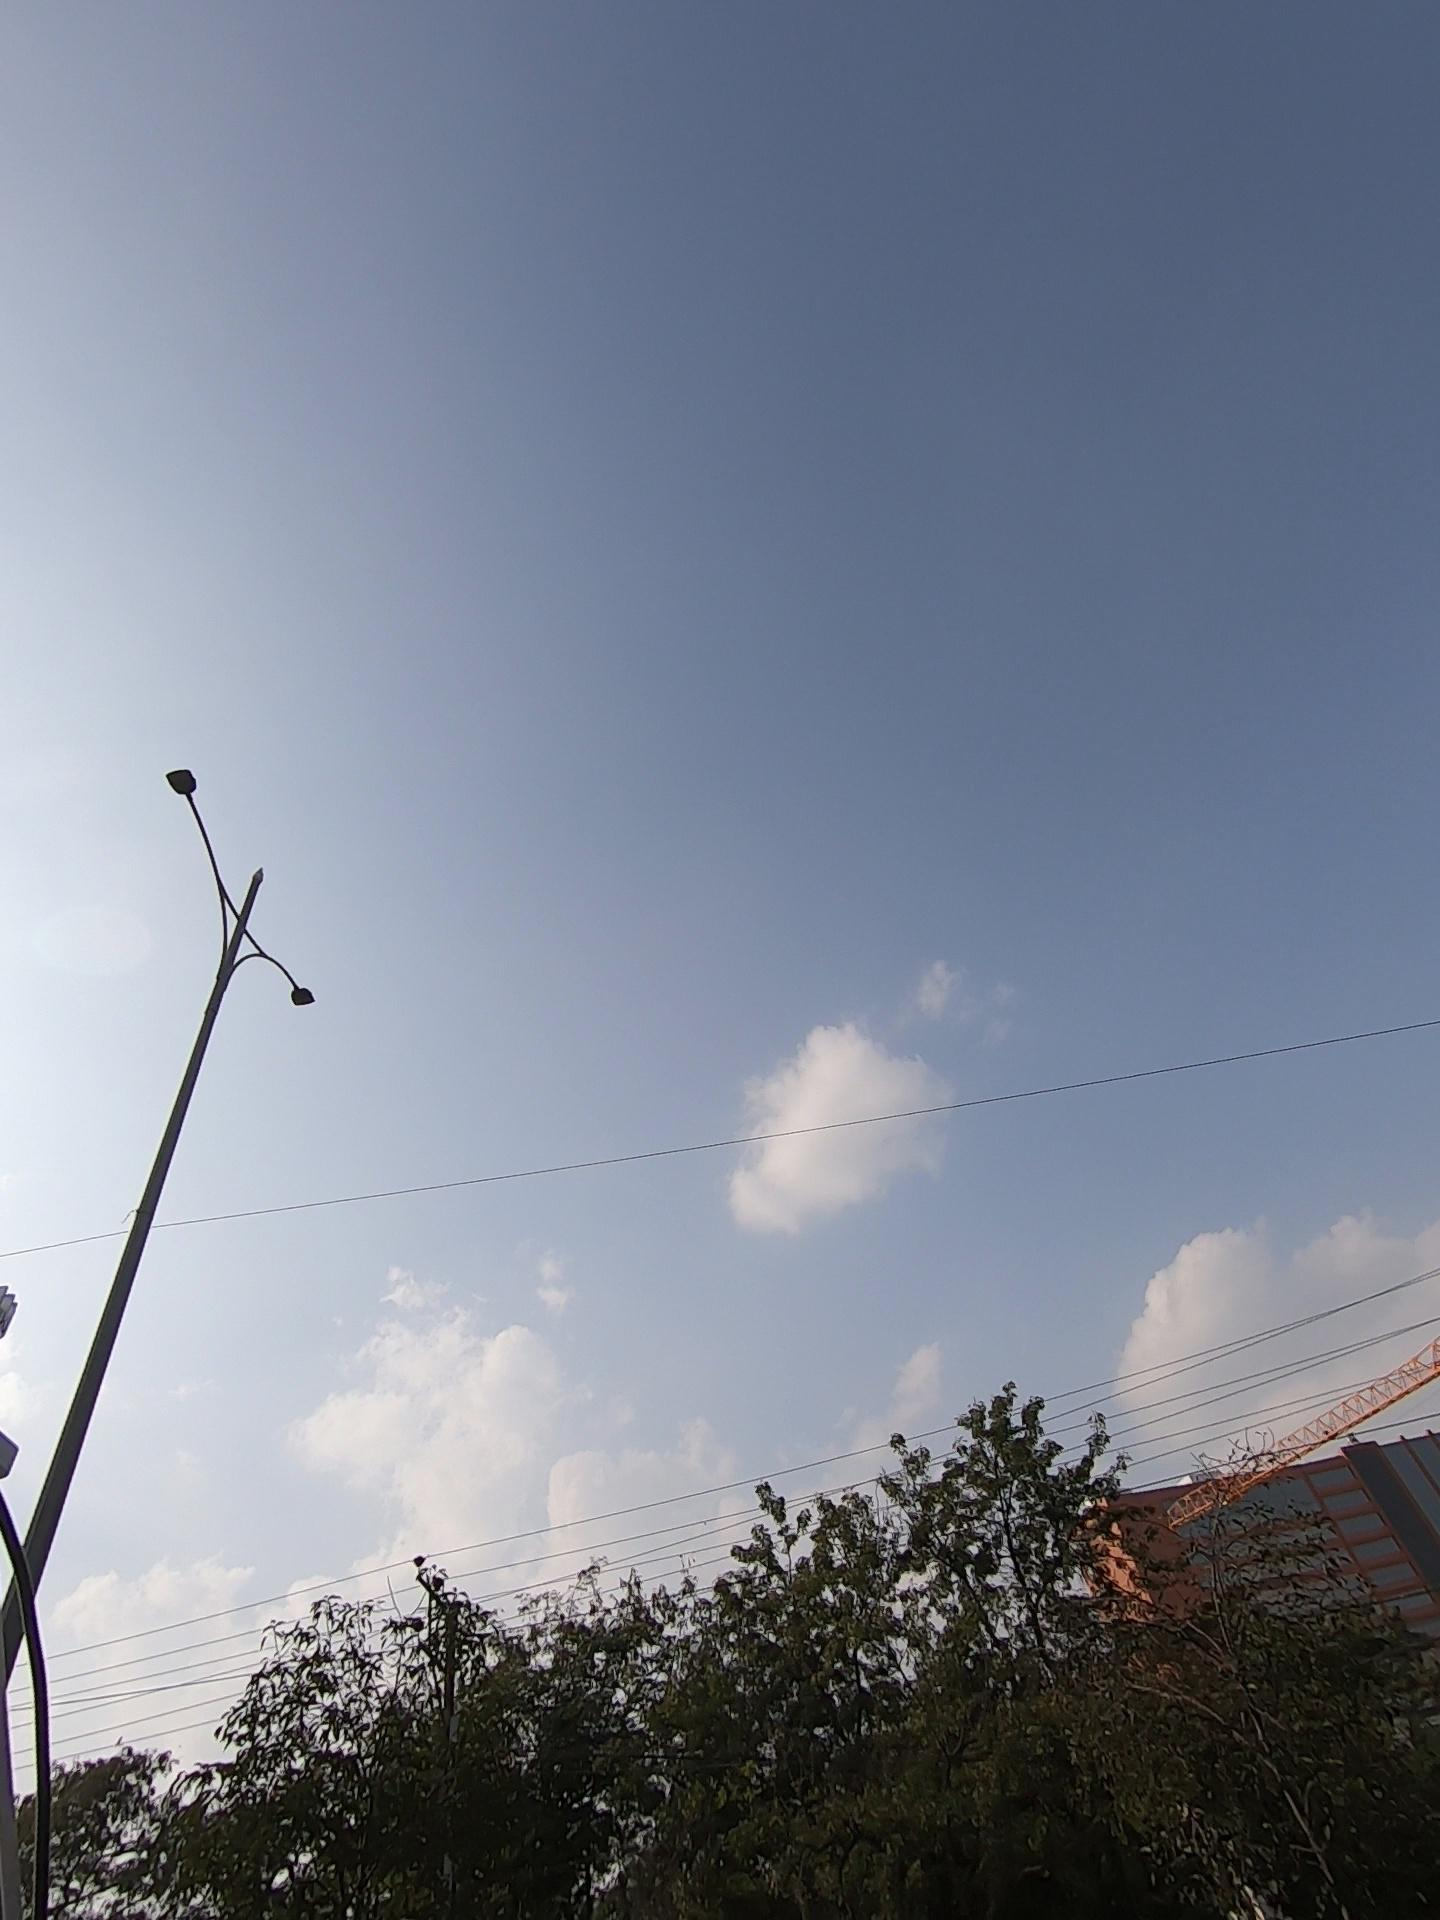off: (67, 717, 424, 1058)
